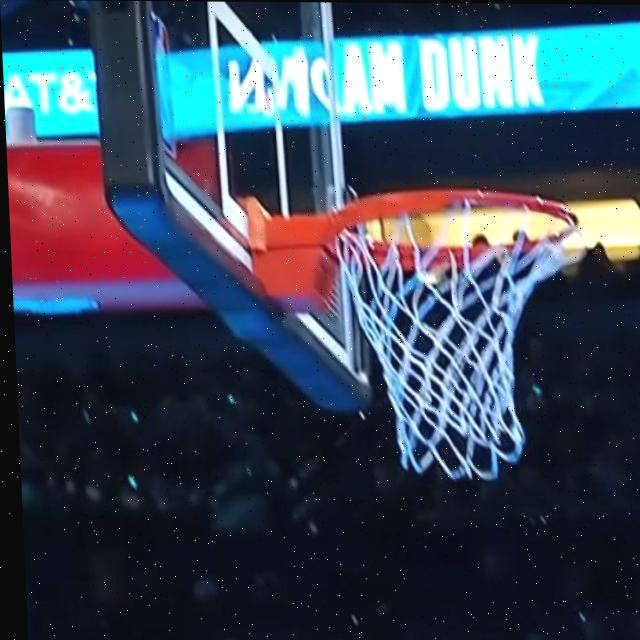hoop: (266, 194, 626, 471)
